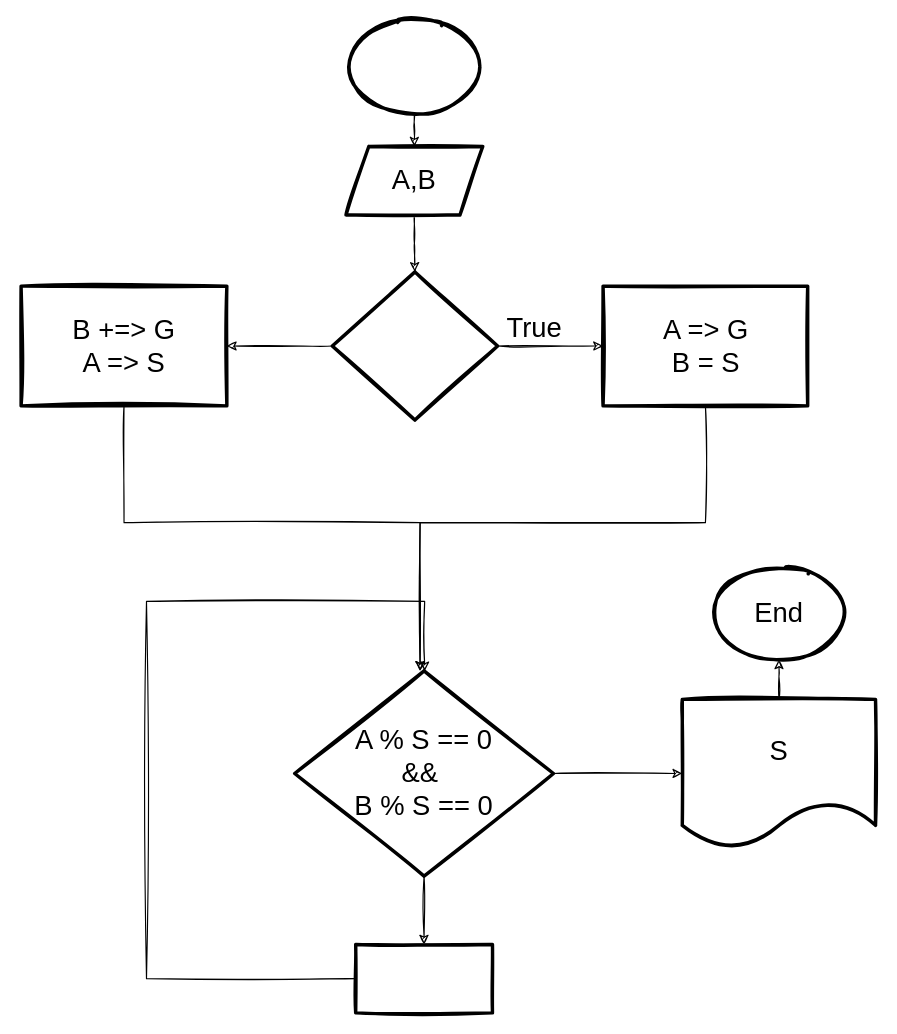
The diagram is 897 pixels wide and 1034 high, and some of its shapes have lost their labels. Here are the shapes that lost their labels. From the top down, the centre of each, then its label:
the point at 414,66: Start
the point at 414,345: A > B
the point at 423,978: S - 1 => S
